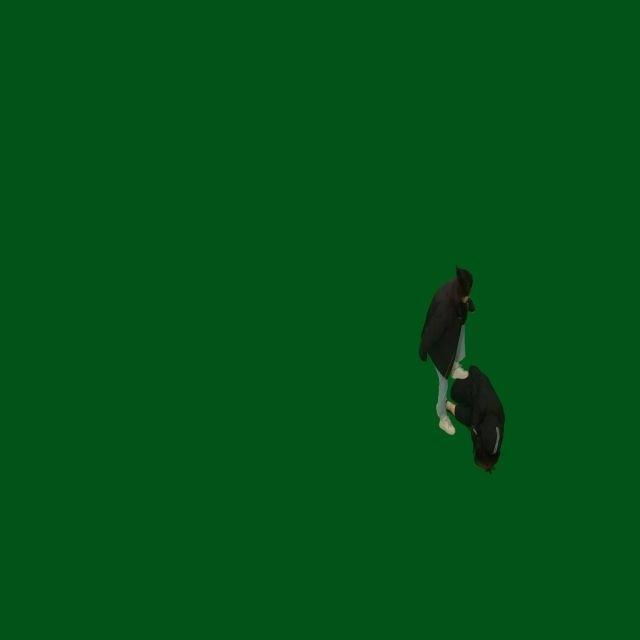fight: (415, 264, 512, 472)
